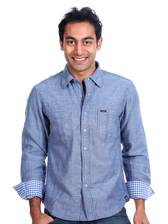clothoes: (18, 61, 158, 215)
